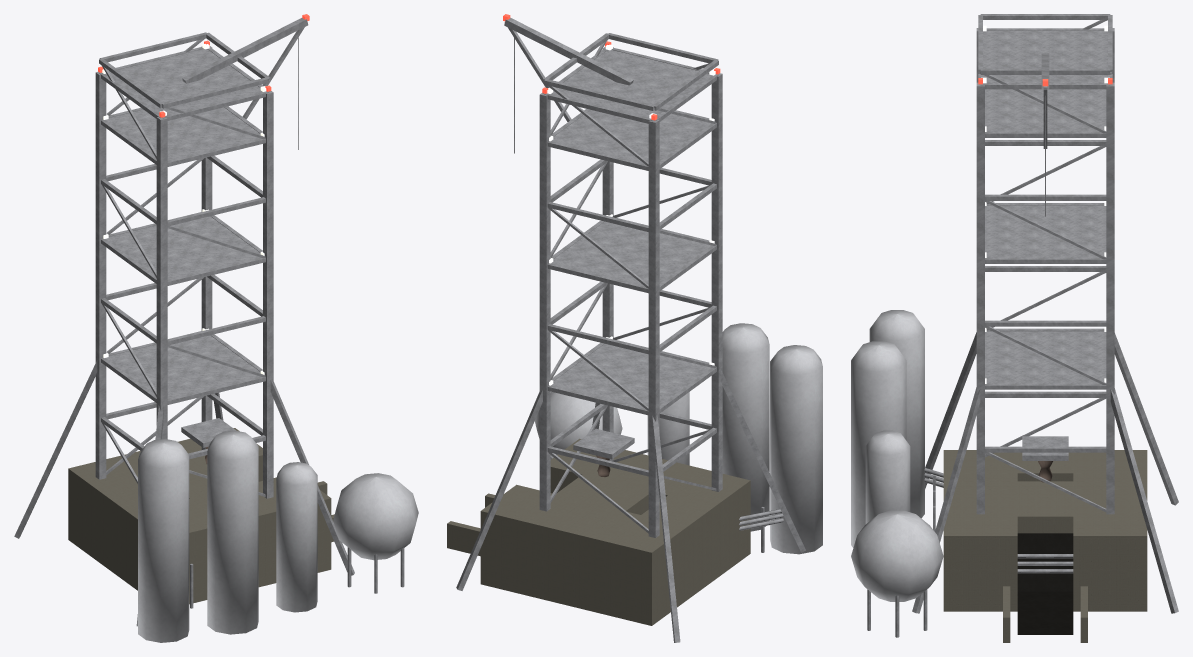
The model's file is raptor_stand_lod1.glb.
3 views of the same model, side by side, from view 1: azimuth 30°, elevation 25°; view 2: azimuth 150°, elevation 25°; view 3: azimuth 270°, elevation 25° (orthographic). The views are drawn at different scales.
Parts seen in each view (by area): view 1: RaptorStand_Mesh; view 2: RaptorStand_Mesh; view 3: RaptorStand_Mesh.
Part boxes in pixels (left/top/right/bottom): RaptorStand_Mesh: left=14, top=14, right=418, bottom=642; RaptorStand_Mesh: left=447, top=14, right=822, bottom=642; RaptorStand_Mesh: left=851, top=14, right=1178, bottom=642.
Bounding box in the file's own units: 35.85 × 64.7 × 35.41.
Materials: 7 (5 with a texture image).
